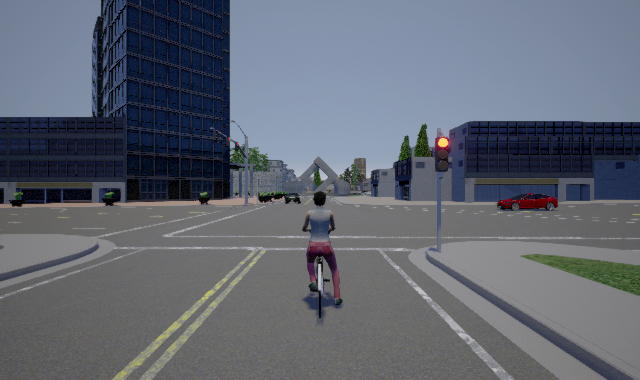bike: (302, 191, 342, 318)
traffic_light: (435, 135, 449, 174), (214, 130, 219, 141), (226, 137, 231, 147), (235, 142, 239, 151)
vehicle: (497, 193, 558, 211), (284, 192, 299, 203)
